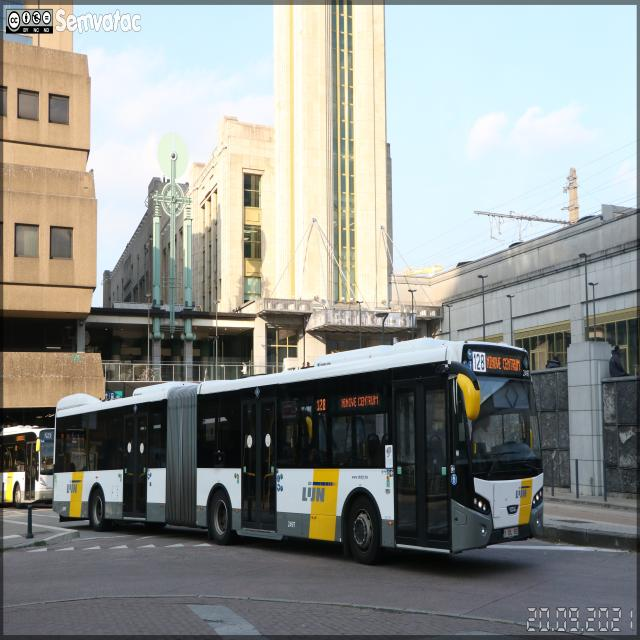bus-number: (472, 352, 486, 372)
